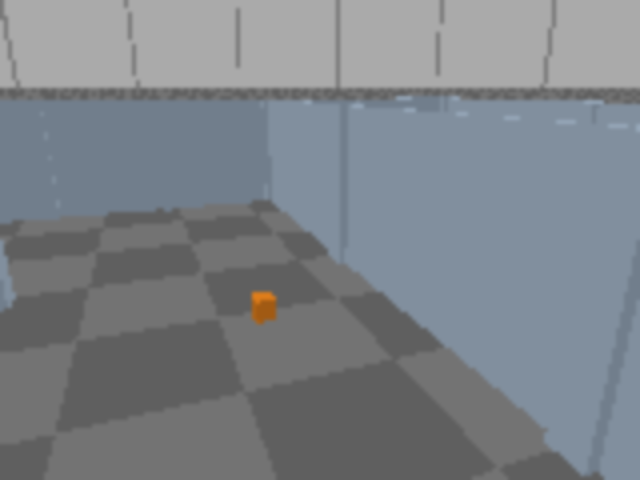puck: (250, 291, 278, 323)
